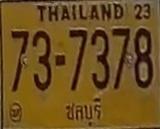3: (32, 30, 51, 90), (90, 30, 109, 88)
7: (112, 27, 131, 89), (10, 30, 29, 91), (68, 29, 87, 90)
8: (133, 27, 152, 87)
CBI: (61, 98, 106, 129)
